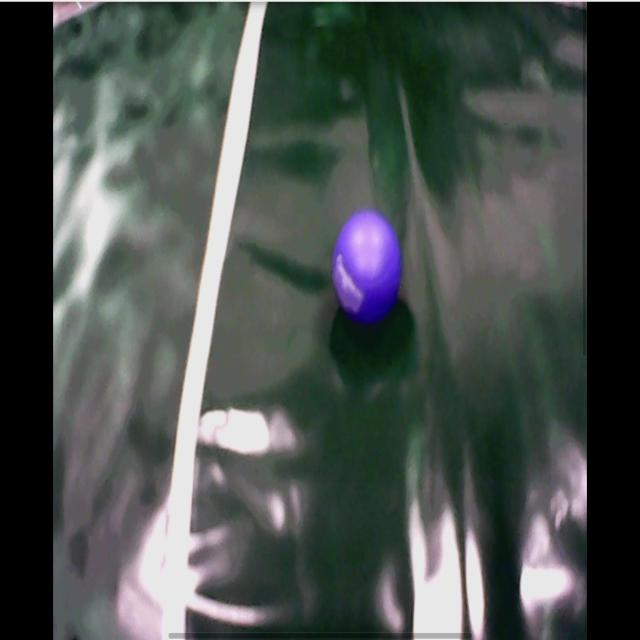ball: (335, 211, 403, 320)
